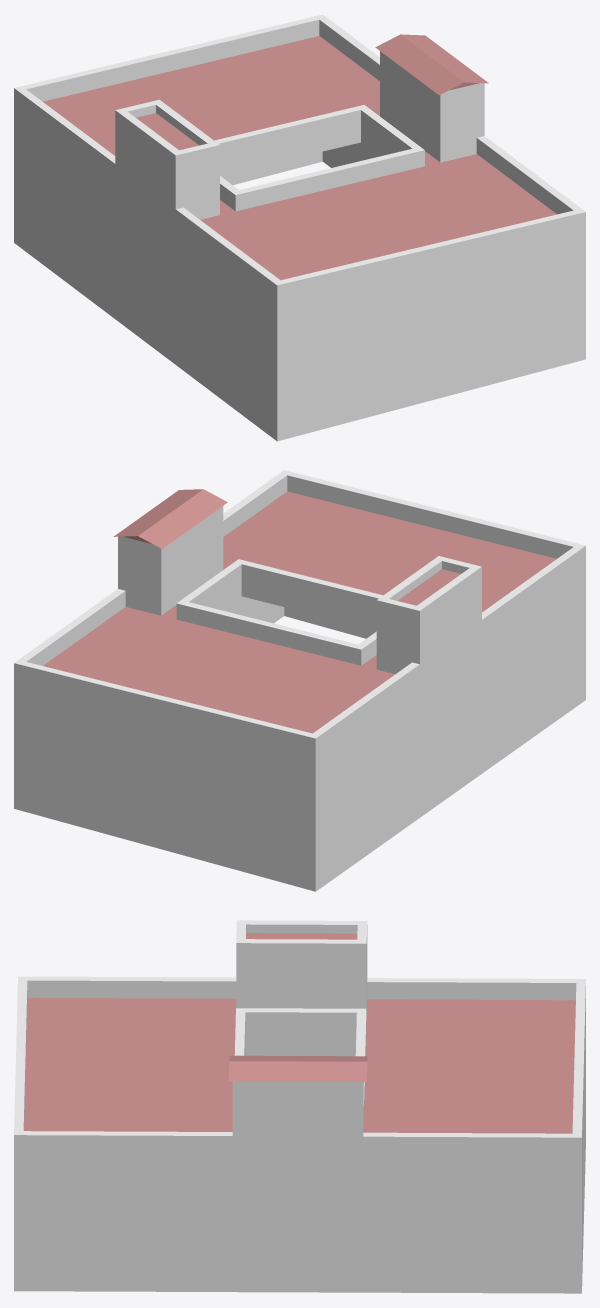
File: LOD_Block_4_64.glb
The picture shows the model from 3 angles, top to bottom: view 1: azimuth 30°, elevation 25°; view 2: azimuth 150°, elevation 25°; view 3: azimuth 270°, elevation 25°; orthographic projection. The views are drawn at different scales.
Visible parts, largest first — view 1: mesh_CityEngineMaterial_1020; view 2: mesh_CityEngineMaterial_1020; view 3: mesh_CityEngineMaterial_1020.
Boxes of the visible parts, <box> form: mesh_CityEngineMaterial_1020: <box>14,14,585,441</box>; mesh_CityEngineMaterial_1020: <box>14,470,585,891</box>; mesh_CityEngineMaterial_1020: <box>14,920,585,1293</box>.
Bounding box in the file's own units: 20.13 × 13.28 × 30.09.
